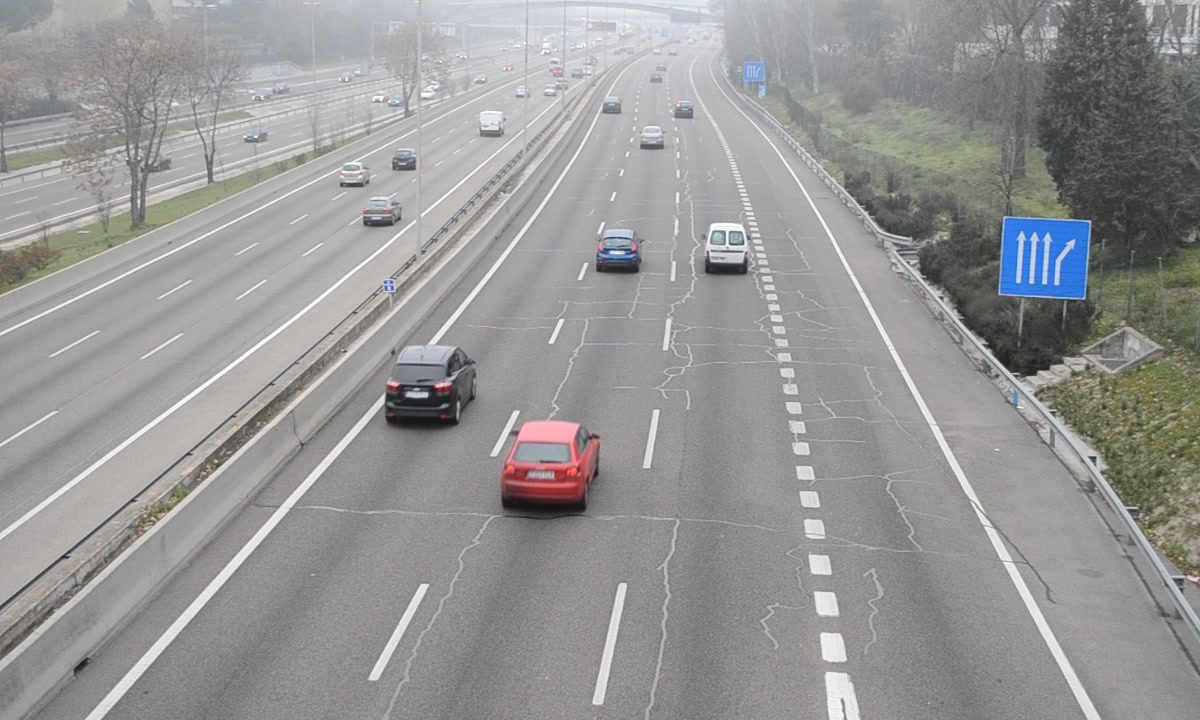car: (503, 423, 597, 507), (387, 346, 475, 424), (595, 228, 639, 273), (638, 124, 666, 149)
van: (706, 222, 750, 273)
